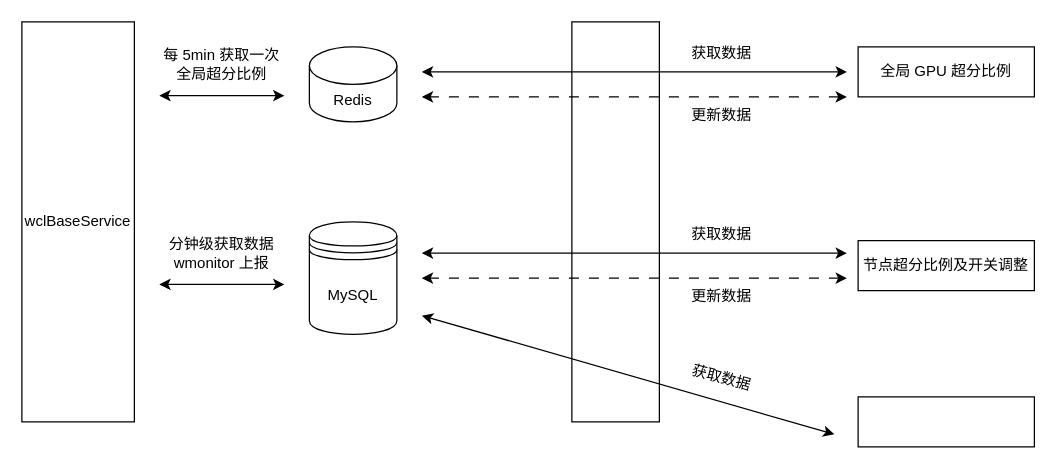
Image size: 1056x469. Some labels were removed from this diagram. Here are the shapes that lost their labels. From the top down, the centre of each, then its label:
the point at 615,221: AI 超分控制中心
the point at 945,421: 操作记录
